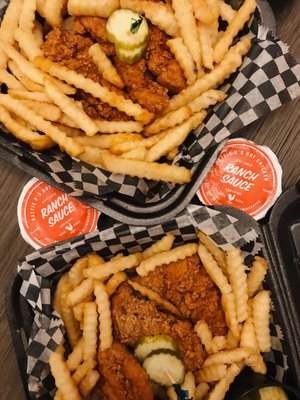curry: (1, 1, 300, 397)
